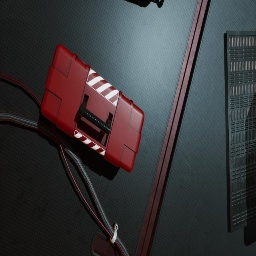FirstAidBox ,: (41, 44, 144, 173)
